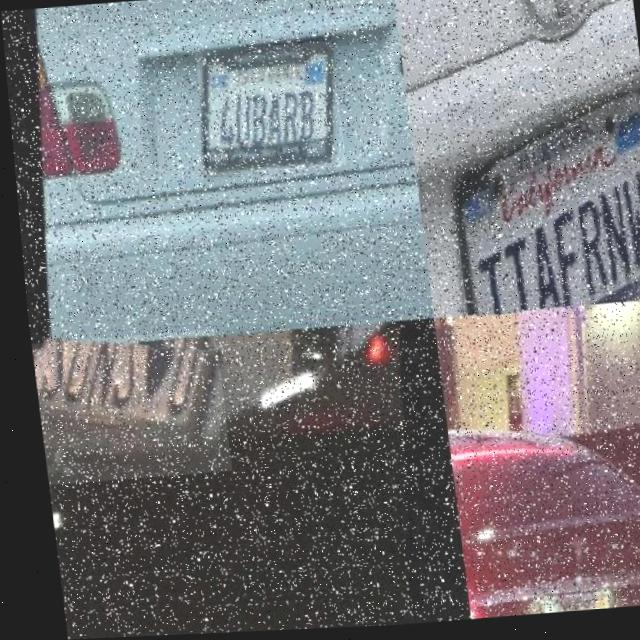LicensePlate: (452, 97, 640, 319), (24, 330, 223, 485), (193, 43, 343, 178), (532, 598, 605, 614)
